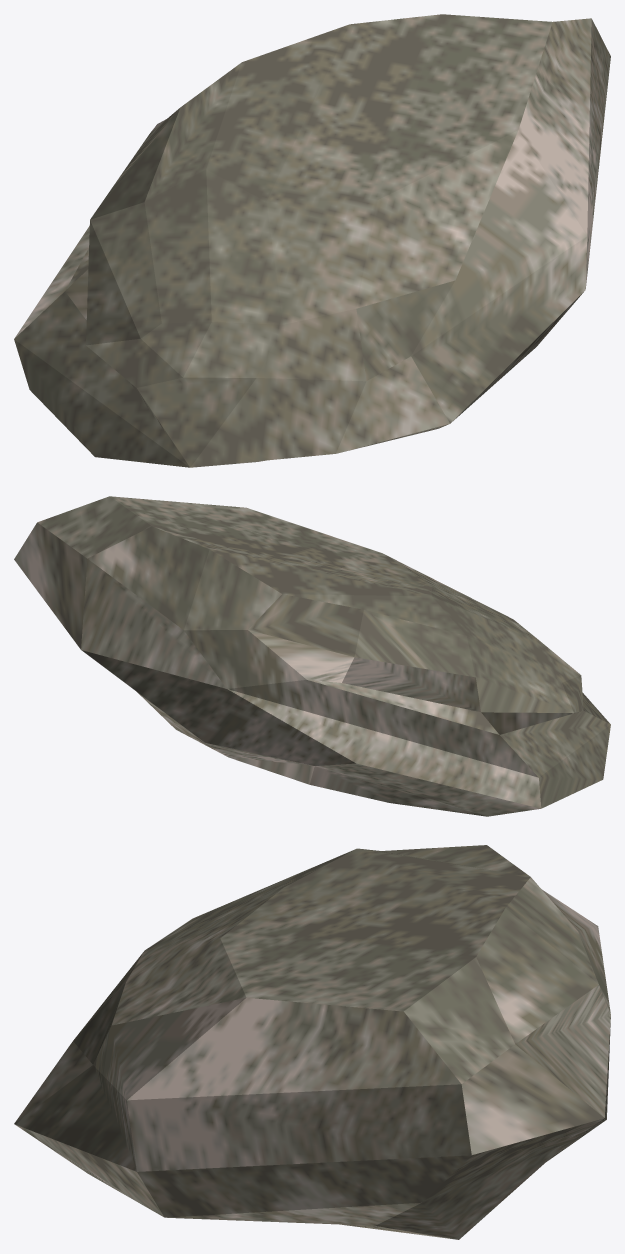
Rendered from Stone.fbx.
3 views of the same model, one above another, from view 1: azimuth 30°, elevation 25°; view 2: azimuth 150°, elevation 25°; view 3: azimuth 270°, elevation 25° (orthographic). The views are drawn at different scales.
Parts seen in each view (by area): view 1: Cube; view 2: Cube; view 3: Cube.
Boxes of the visible parts, x1,y1,x2,y2 form: Cube: [14, 14, 610, 467]; Cube: [14, 496, 610, 816]; Cube: [14, 845, 610, 1239].
Size of the model in its own units: 4.45 by 2.06 by 3.09.
